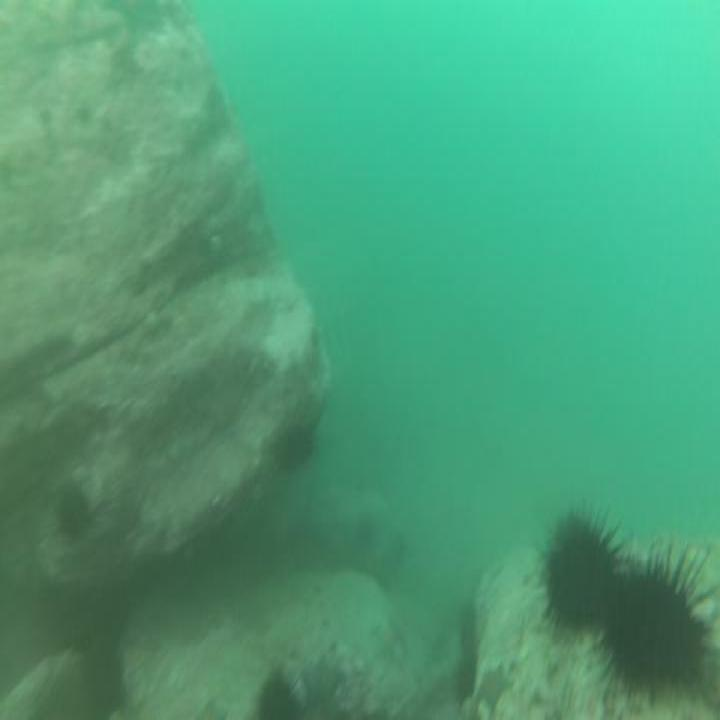echinus: (585, 537, 718, 704), (533, 498, 629, 642), (82, 636, 125, 720), (50, 478, 97, 550), (251, 665, 304, 720), (284, 413, 317, 474), (452, 652, 480, 704), (456, 601, 480, 658)
starfish: (299, 649, 346, 713), (477, 661, 514, 715), (194, 693, 231, 720)
